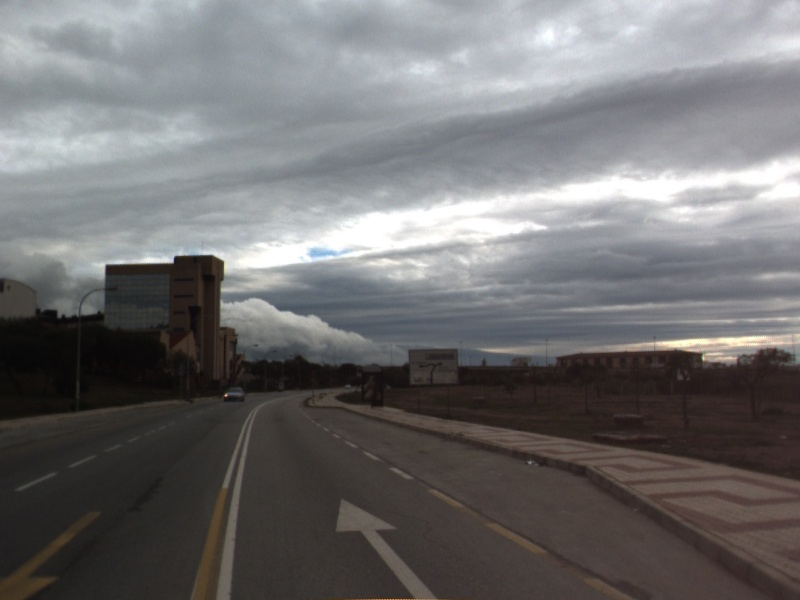STRAIGHT: (332, 494, 444, 600)
